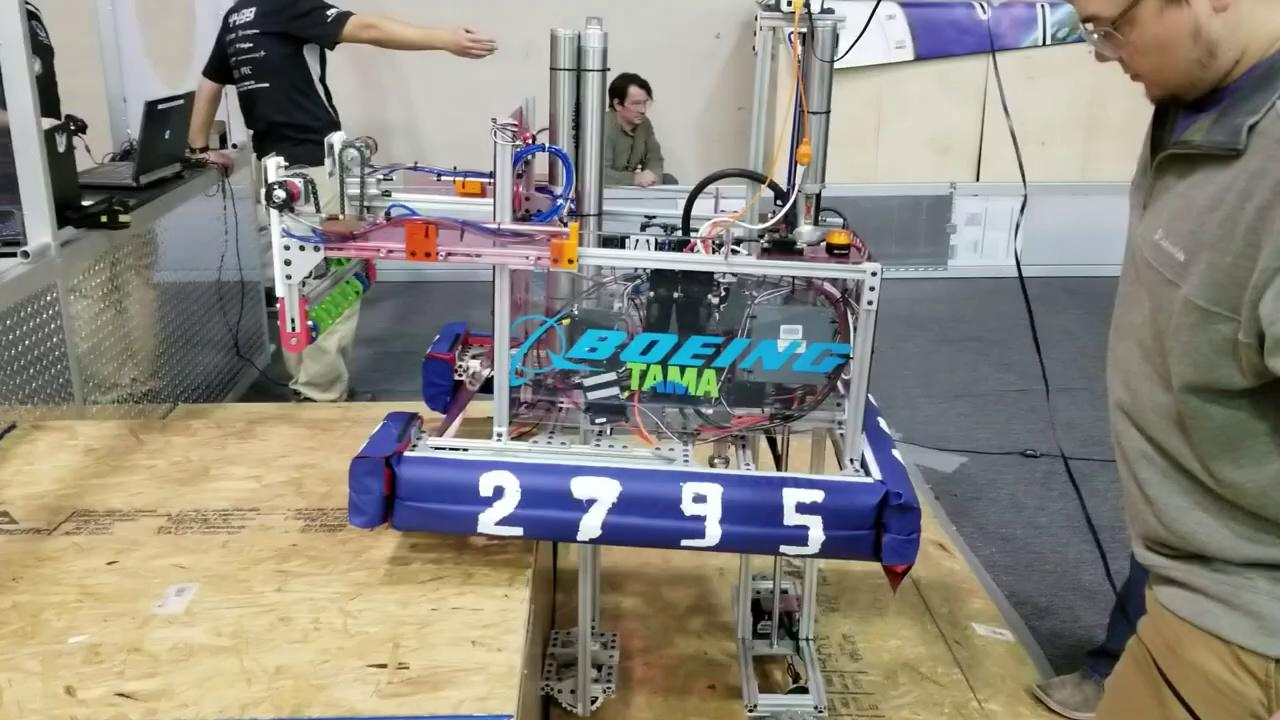robot: (258, 133, 928, 570)
